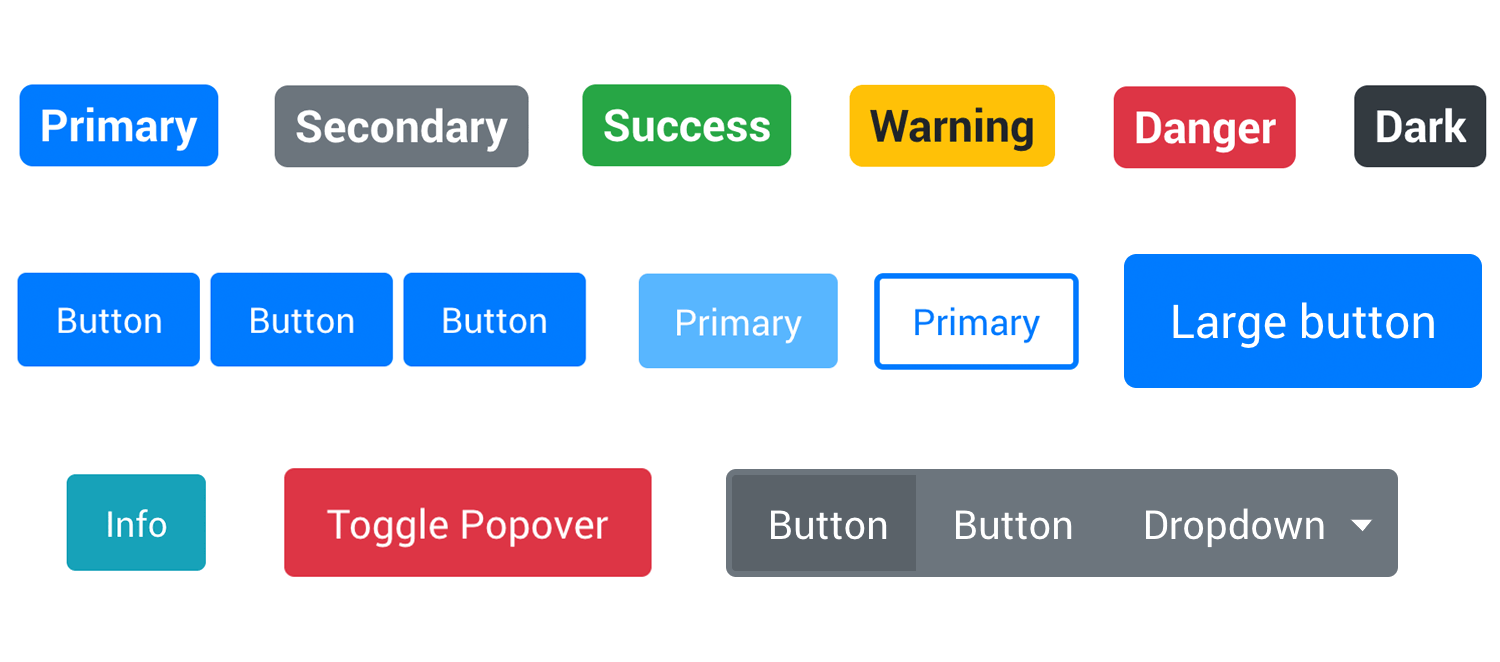button: (1118, 244, 1500, 403), (271, 457, 655, 586), (628, 267, 850, 384), (204, 253, 398, 386), (271, 79, 541, 173), (10, 261, 207, 385), (51, 461, 231, 587), (847, 75, 1064, 179), (401, 261, 593, 378), (577, 74, 795, 175), (1108, 75, 1306, 183), (16, 84, 232, 171), (1348, 79, 1497, 179)
